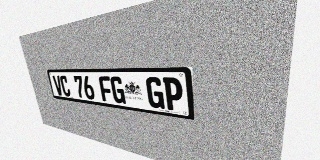6: (82, 76, 96, 100)
7: (73, 76, 86, 99)
C: (59, 75, 71, 97)
F: (98, 76, 114, 102)
G: (145, 77, 165, 109), (110, 76, 126, 104)
P: (163, 77, 184, 112)
V: (52, 75, 64, 96)
